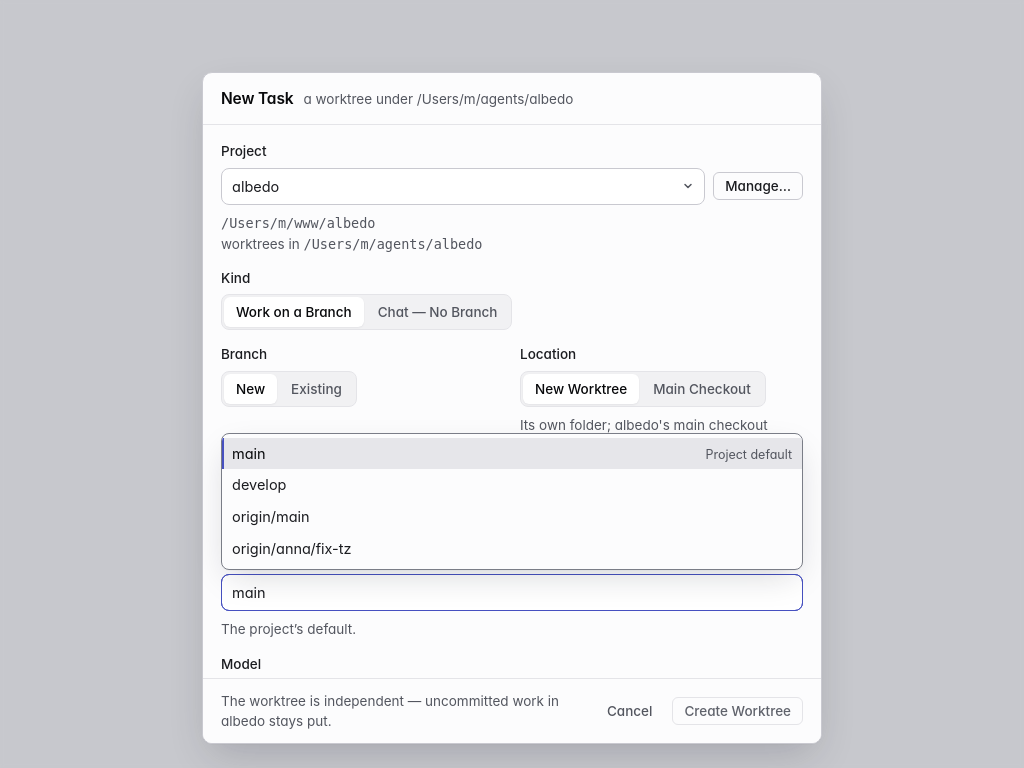
NewTaskDialog branch picker highlight › moves with ↓ from the top match, and highlights the chosen branch with nothing typed
The width and height of the screenshot is (1024, 768).
Replace the text in the dropdown labelled "Base Branch" with "mai" at (512, 592), box [221,574,803,611]
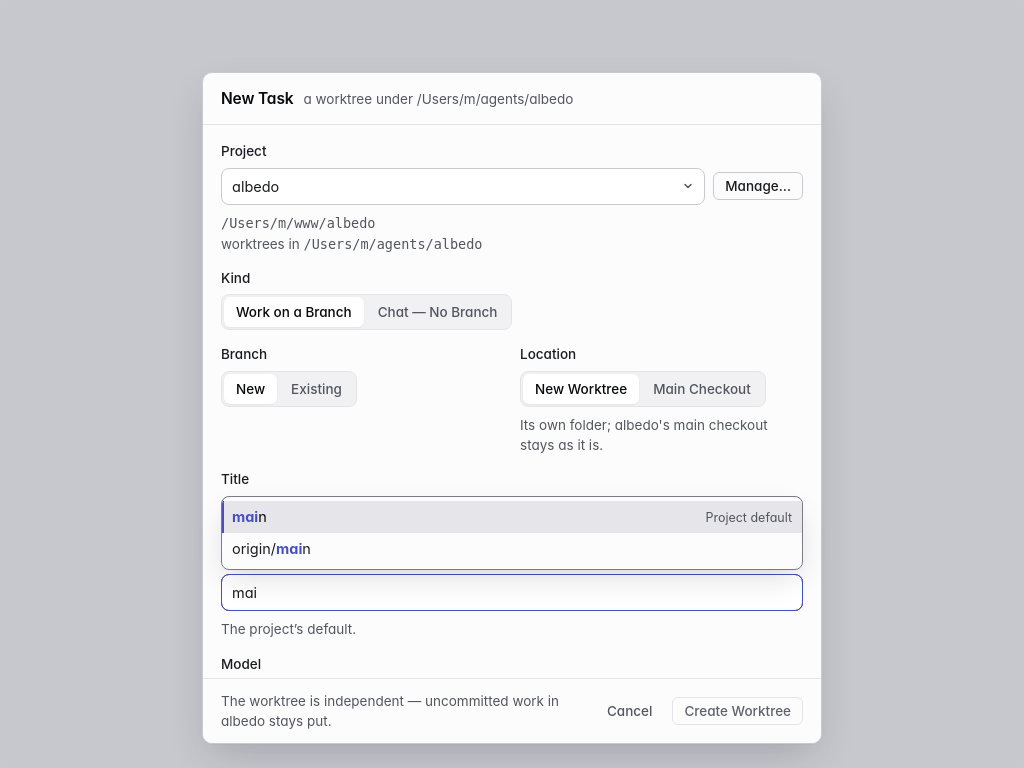
Press ArrowDown in the dropdown labelled "Base Branch", box [221,574,803,611]
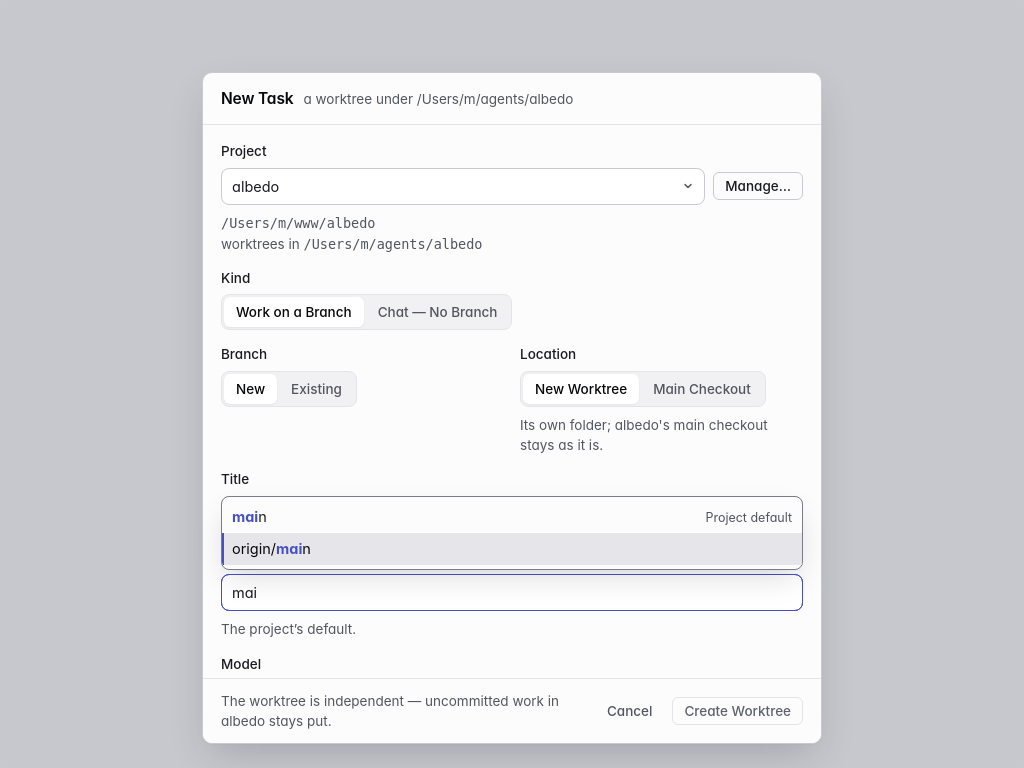
Press Enter in the dropdown labelled "Base Branch", box [221,574,803,611]
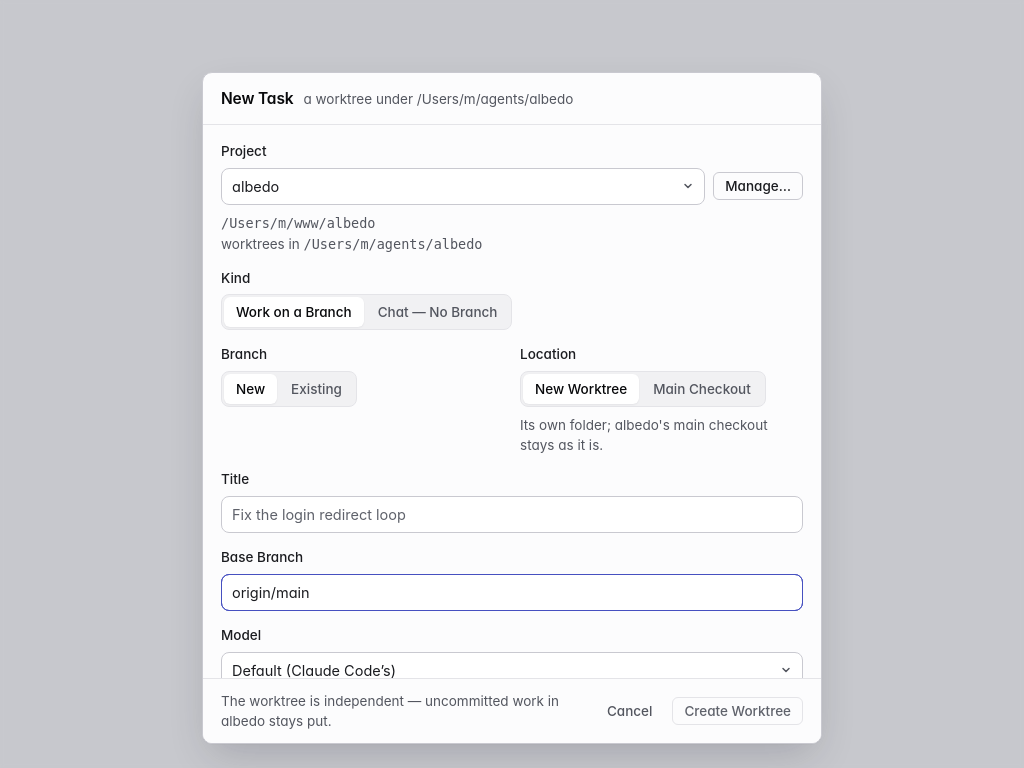
Expected: the dropdown labelled "Base Branch" holds "origin/main", [221,574,803,611]
